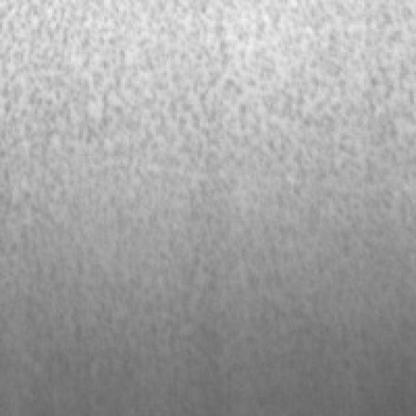pitted_surface: (4, 0, 410, 239)
